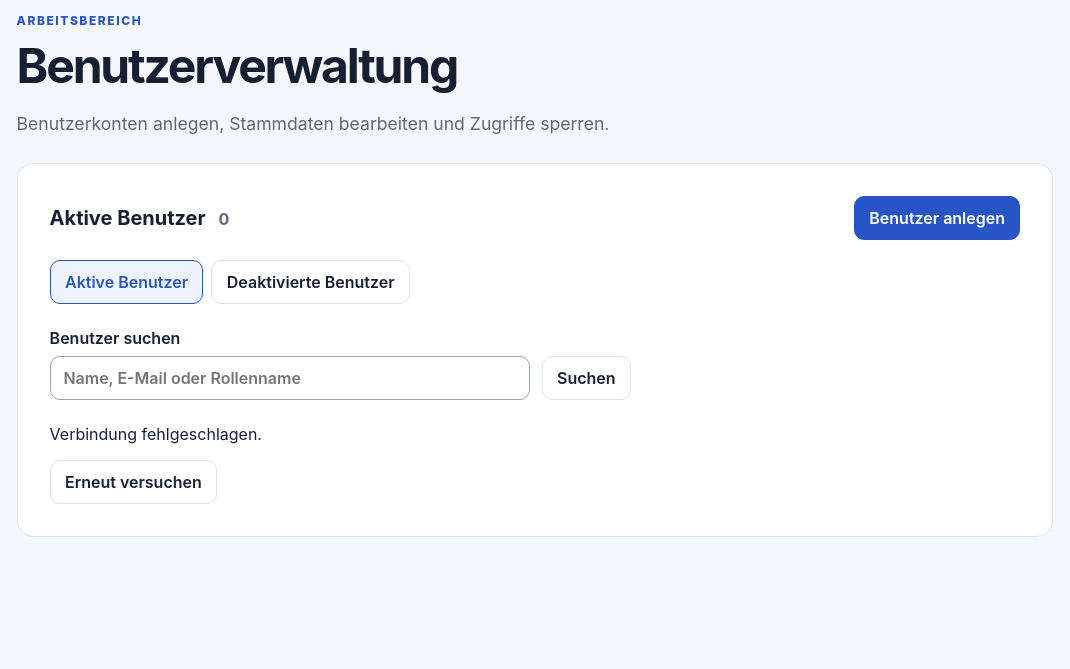
Scenario: Benutzerverwaltung › zeigt Ladefehler und bietet erneutes Laden an
The image size is (1070, 669).
Check: the message "Verbindung fehlgeschlagen. Erneut versuchen" is shown, box x1=50 y1=424 x2=262 y2=504
Click the button "Erneut versuchen". click: (133, 482)
box: x1=50 y1=460 x2=217 y2=504
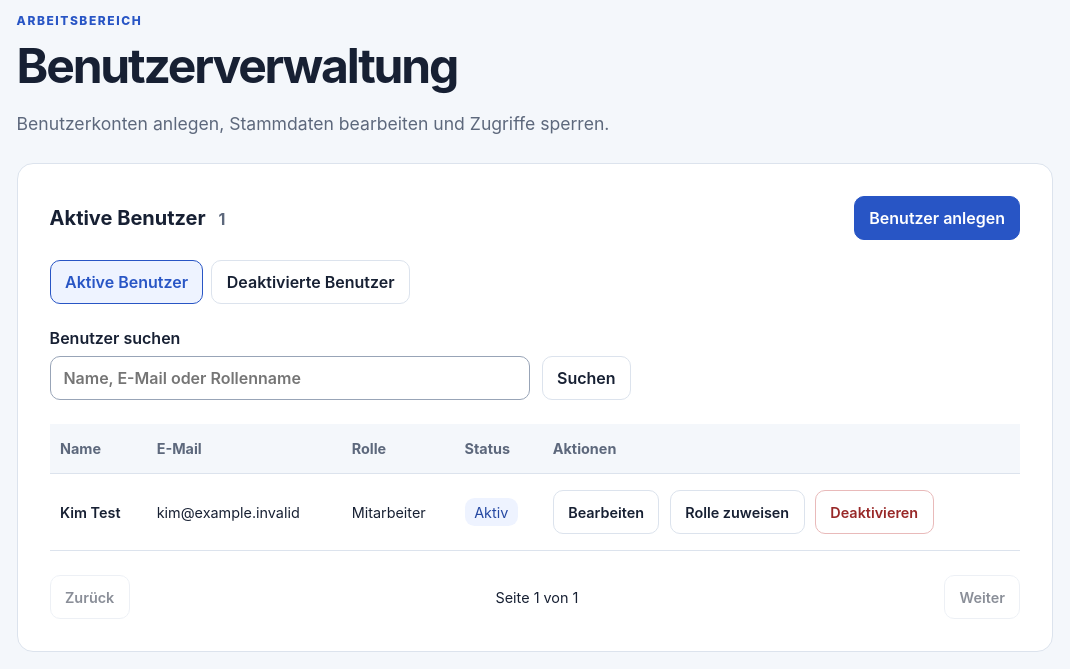
Check: the text "kim@example.invalid" is shown, box x1=146 y1=474 x2=341 y2=551
